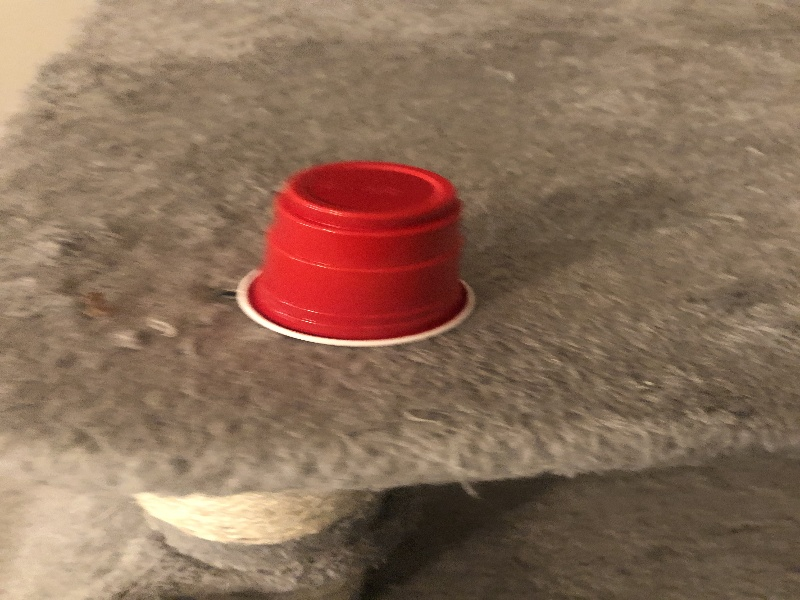plastic: (237, 159, 482, 354)
